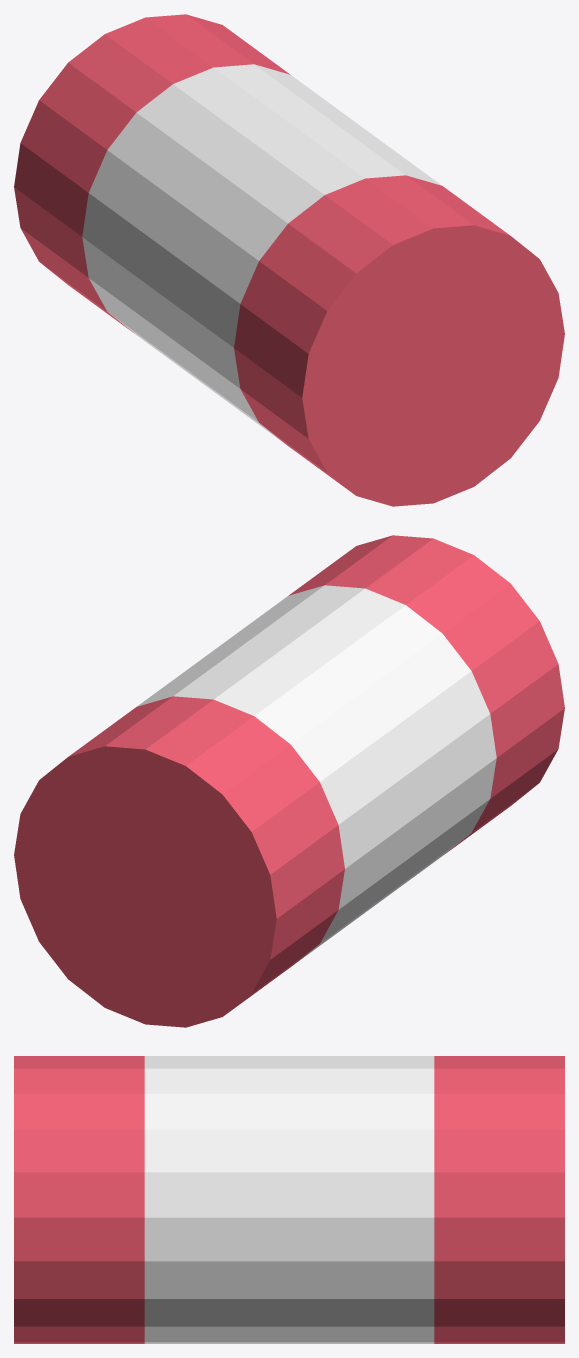
Rendered from cad-barrel-by-ross-b-aMEXn4jLZF9.glb.
3 renders of one model, top to bottom at view 1: azimuth 30°, elevation 25°; view 2: azimuth 150°, elevation 25°; view 3: azimuth 270°, elevation 25°, orthographic. The views are drawn at different scales.
Visible parts, largest first — view 1: group_0_15277357, group_0_16448250; view 2: group_0_15277357, group_0_16448250; view 3: group_0_16448250, group_0_15277357.
Boxes of the visible parts, x1,y1,x2,y2 form: group_0_15277357: (14,14,564,506); group_0_16448250: (82,64,441,443); group_0_15277357: (14,535,564,1027); group_0_16448250: (137,585,496,964); group_0_16448250: (144,1056,434,1343); group_0_15277357: (14,1056,564,1343).
Bounding box in the file's own units: 20 × 20 × 38.
